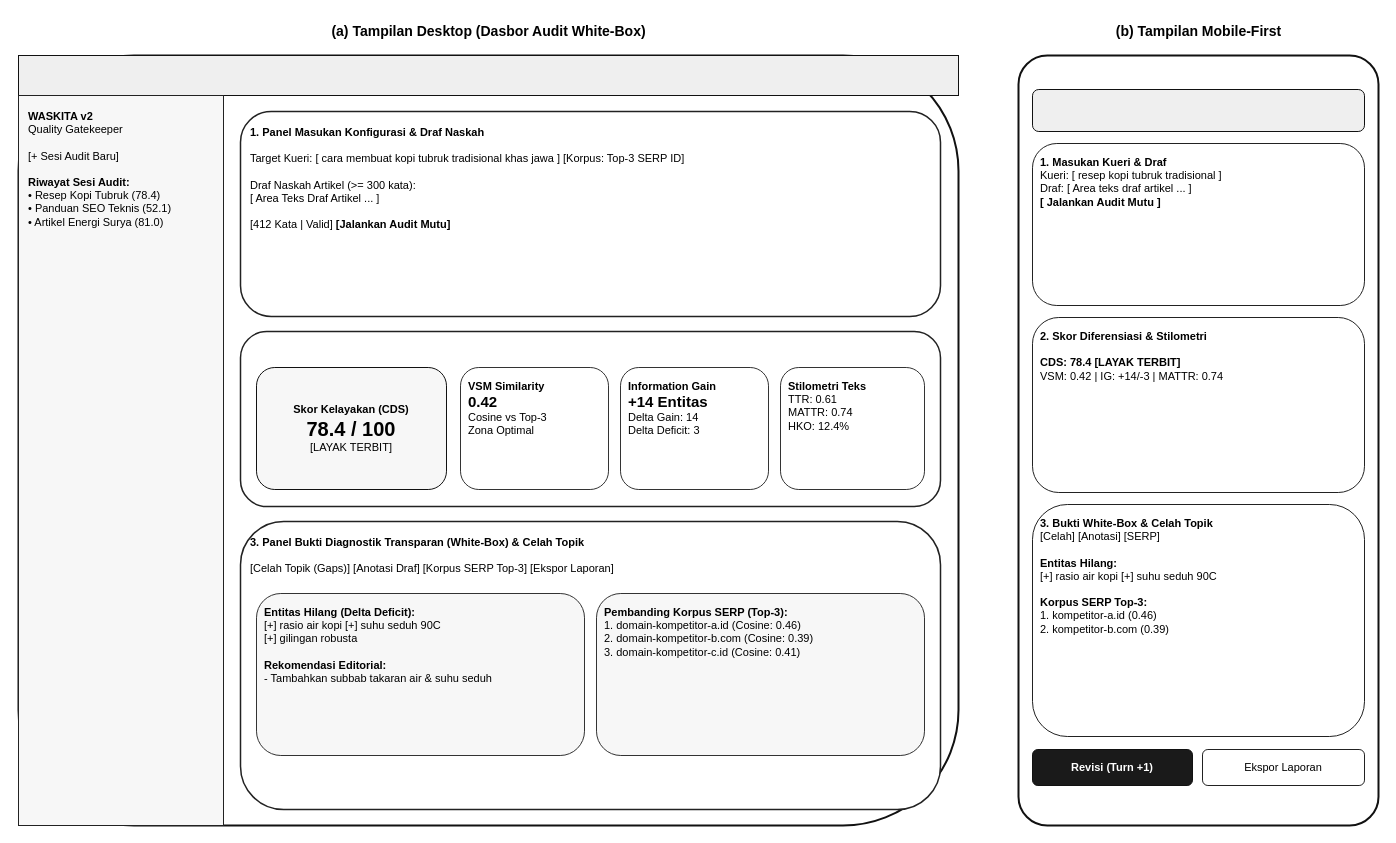
Image size: 1396x843. Some labels were removed from this diagram. Each missing label, with the box of its shape:
2. Panel Skor Diferensiasi Komposit (CDS) & Indikator Stilometri: (239, 330, 941, 507)
[=] WASKITA v2 [o]: (1032, 88, 1364, 132)
https://waskita.local/workspace — Sistem Kurasi Konten Pra-Publikasi: (18, 54, 958, 96)
